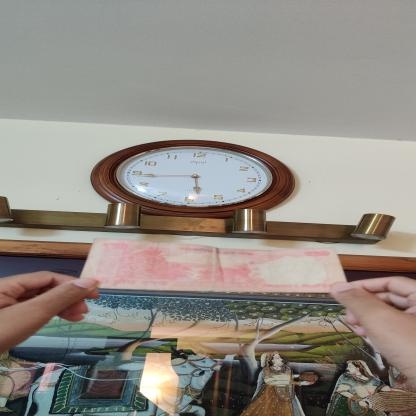Old20Back: (80, 238, 348, 293)
